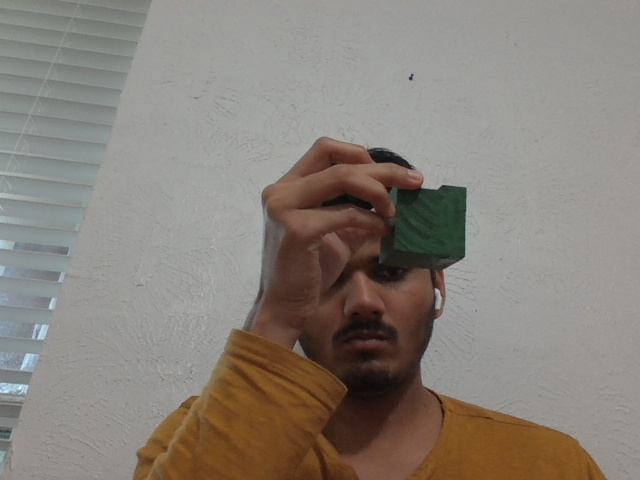GreenBlock: (395, 181, 466, 263)
